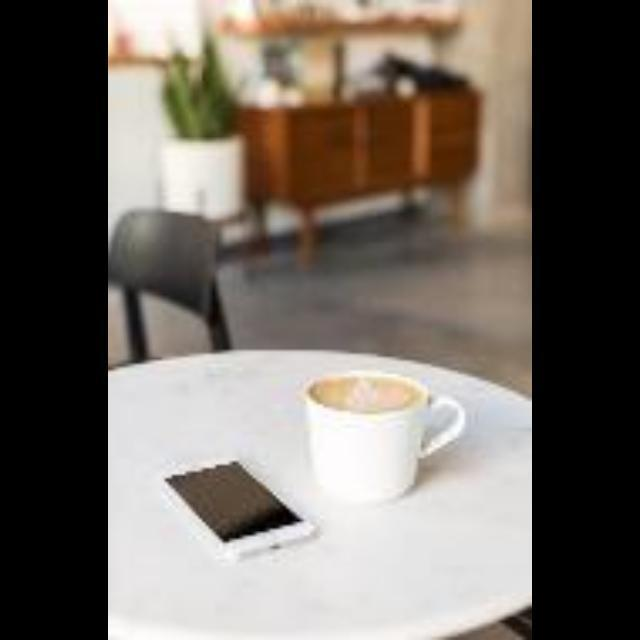phone: (140, 439, 335, 570)
